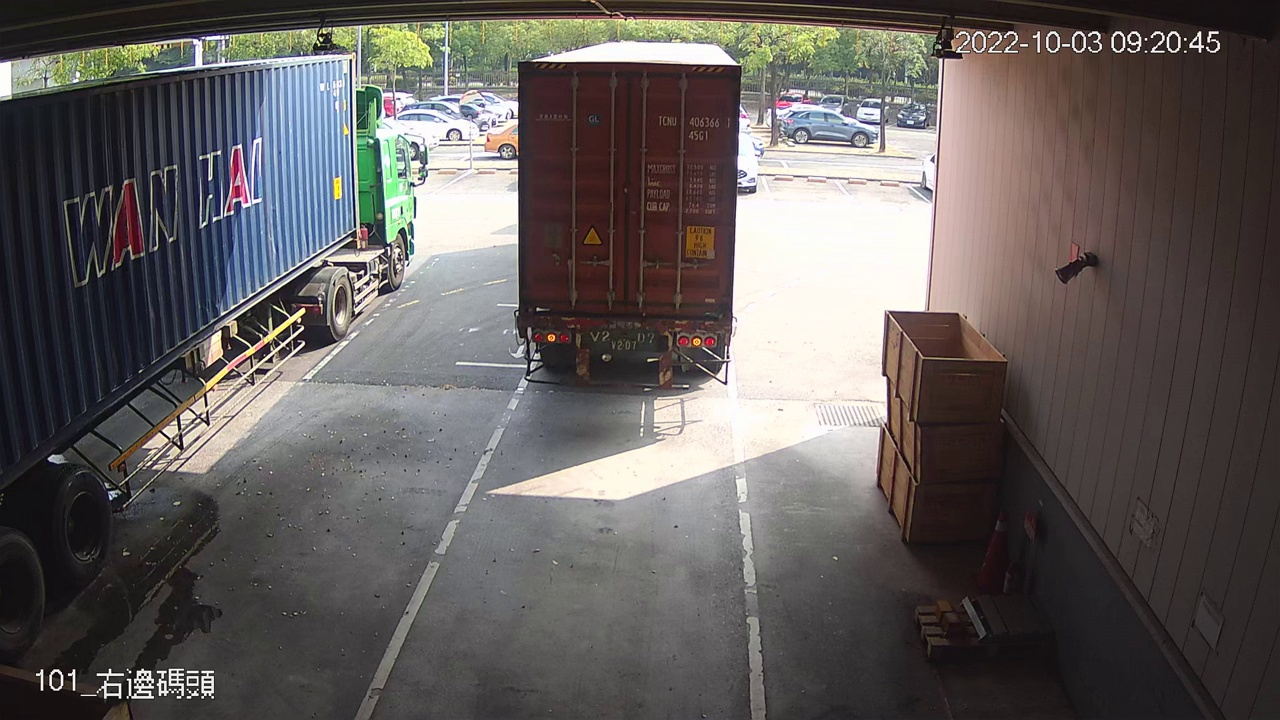container: (653, 111, 734, 145)
